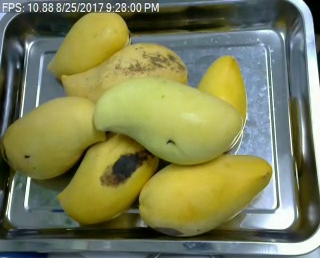Mango: (93, 75, 242, 166), (139, 153, 272, 237), (55, 128, 160, 224), (4, 97, 106, 180), (61, 45, 187, 99), (48, 11, 130, 82), (197, 55, 245, 129)
